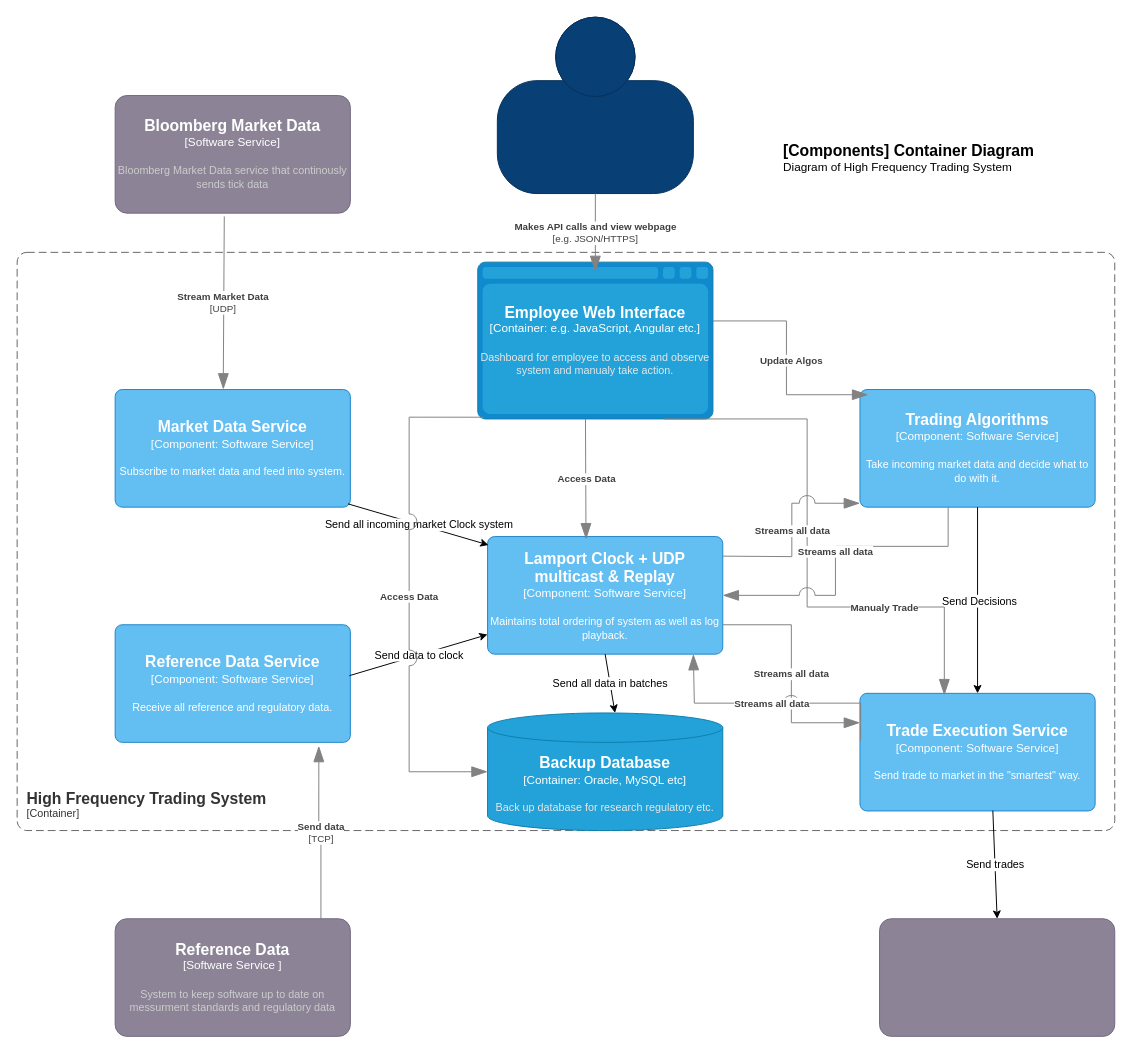
Image size: 1132x1054. Some labels were removed from this diagram. Here are the shapes that lost their labels. From the top down, the centre of each, then its label:
At (594,105): "Bank Employee [Person] Trader/Algorithmist can also be for SEC".
At (997,977): "Stock Exchange [Software System] NASDAQ, NYSE, TYO, LSE...".
